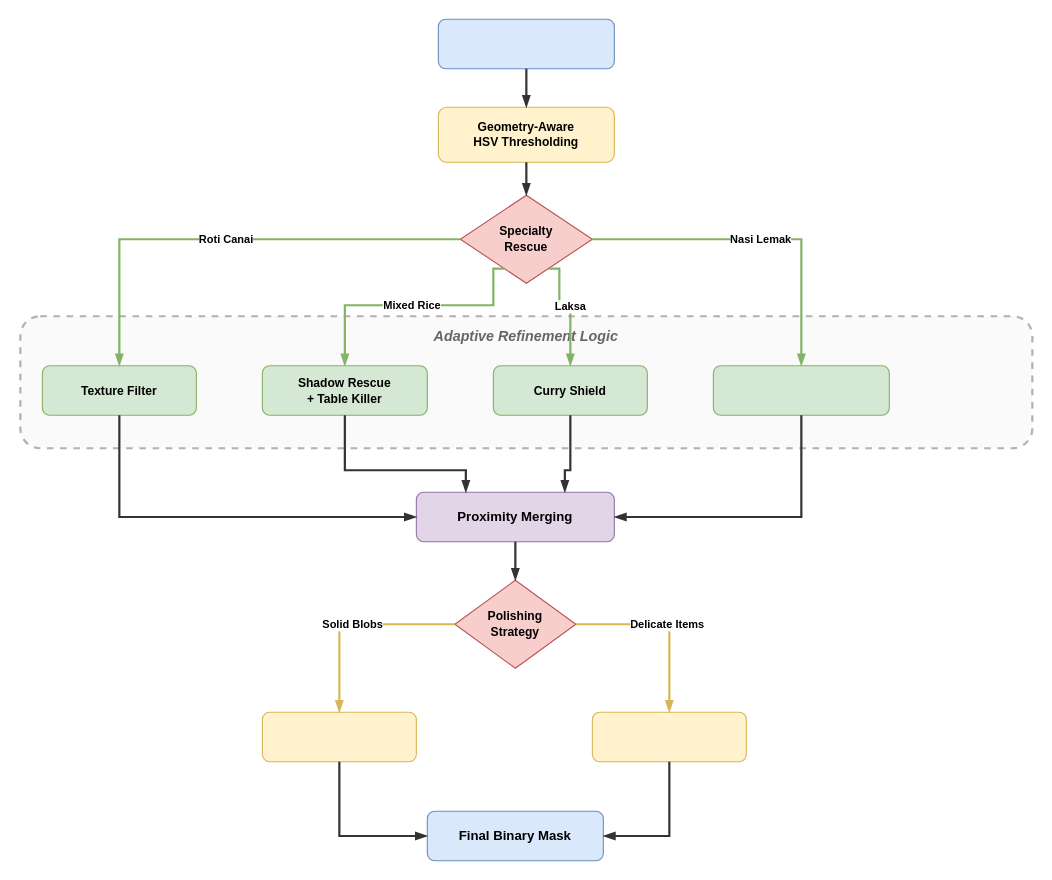
Some shapes in this 1052 by 880 pixel diagram are drawn without their labels. The shapes that lost their labels are listed below. From the top down, each one's centre as x and y in pixels, then its label:
At [525,43]: "Preprocessed Image".
At [800,390]: "Blue Rice + Grey Plate Killer".
At [338,736]: "Smart Polish".
At [668,736]: "Safe Mode".
